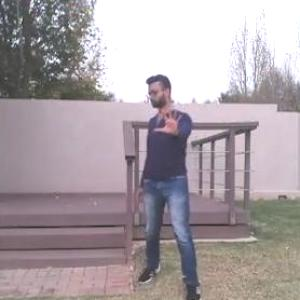follow_hand: (151, 102, 186, 140)
